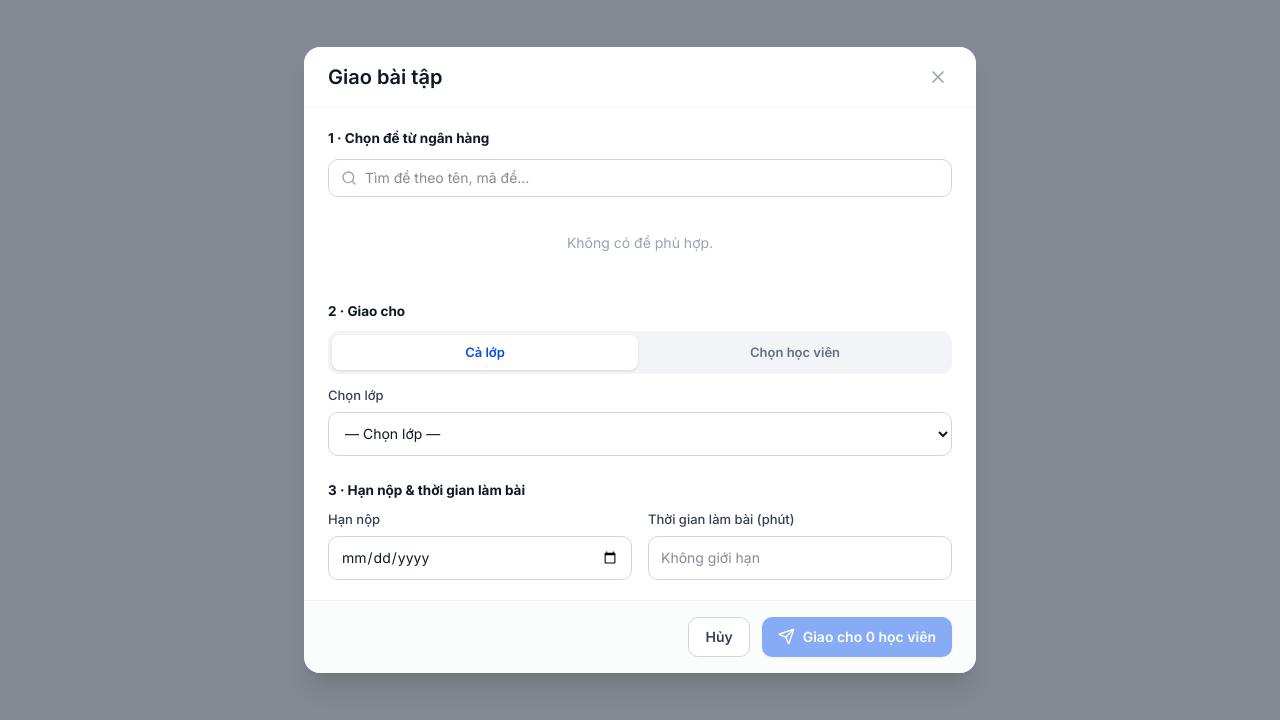
AssignDialog — Chọn học viên › lists the teacher's own students when a teacher assigns individually
What coordinates should you click on to do the following:
click the button "Chọn học viên"
I would click on:
 (795, 353)
Its box is x1=642 y1=335 x2=948 y2=370.
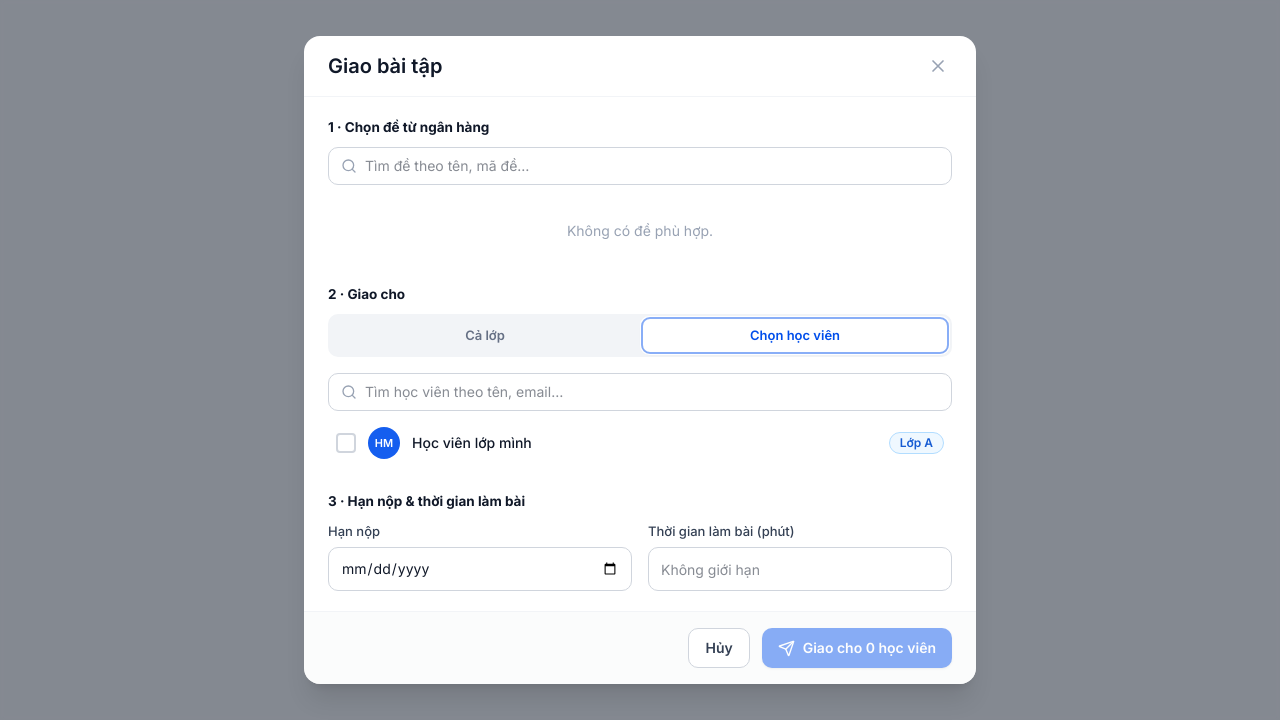
Expected: the text "Học viên lớp mình" is shown, x1=412 y1=434 x2=532 y2=451
